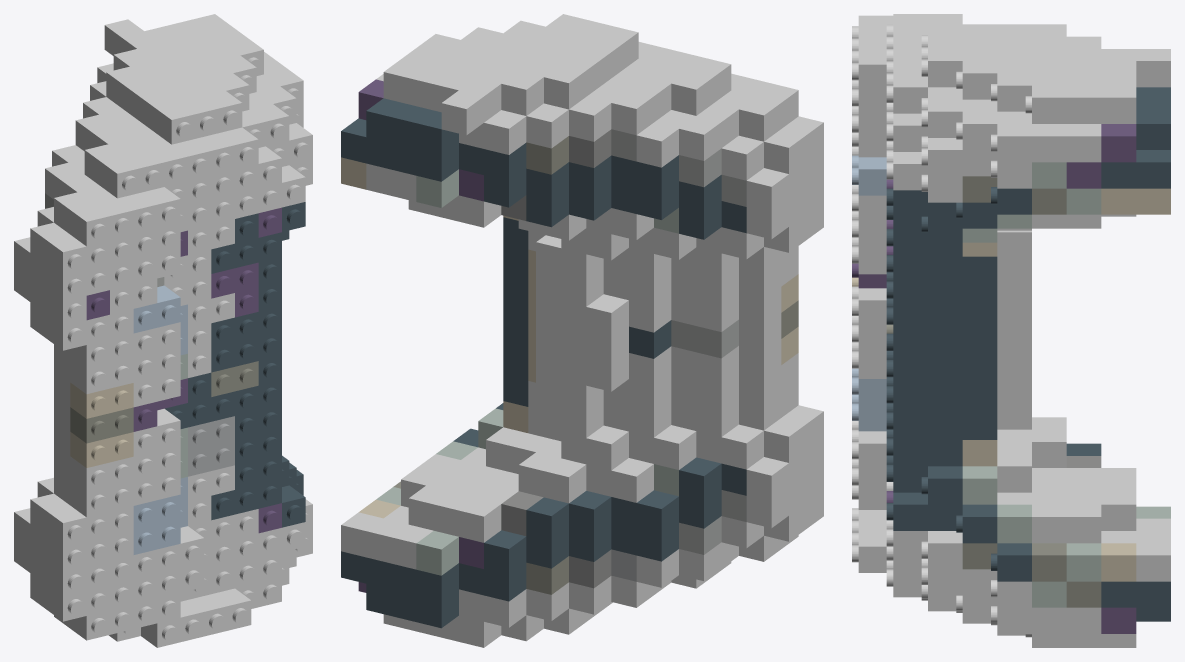
File: full.glb
3 renders of one model, left to right at view 1: azimuth 30°, elevation 25°; view 2: azimuth 150°, elevation 25°; view 3: azimuth 270°, elevation 25°, orthographic. The views are drawn at different scales.
Visible parts, largest first — view 1: world; view 2: world; view 3: world.
Part boxes in pixels (x1,y1,x2,y2): world: (14,14,312,647); world: (341,14,823,647); world: (852,14,1170,647).
Size of the model in its own units: 104 by 168 by 88.2.
